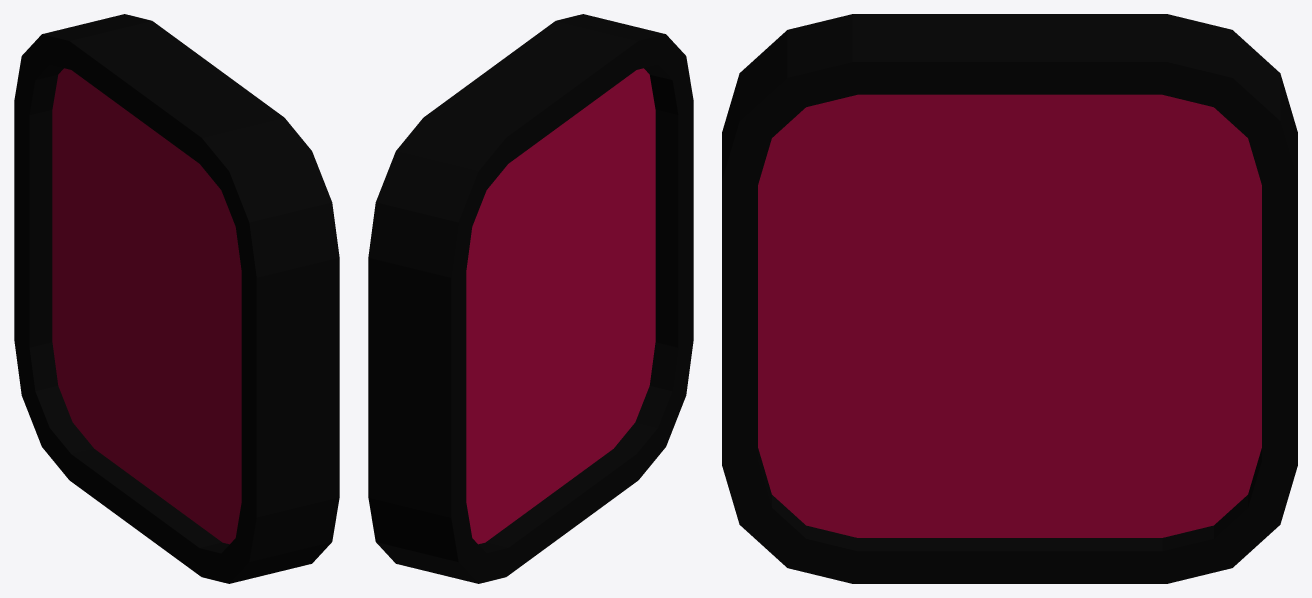
File: ChemElementDisplay3DModel.glb
The picture shows the model from 3 angles, left to right: view 1: azimuth 30°, elevation 25°; view 2: azimuth 150°, elevation 25°; view 3: azimuth 270°, elevation 25°; orthographic projection. The views are drawn at different scales.
Parts seen in each view (by area): view 1: Cube; view 2: Cube; view 3: Cube.
Boxes of the visible parts, x1,y1,x2,y2 form: Cube: (14, 14, 339, 583); Cube: (368, 14, 693, 583); Cube: (722, 14, 1297, 583).
Bounding box in the file's own units: 0.2129 × 1.08 × 1.08.
